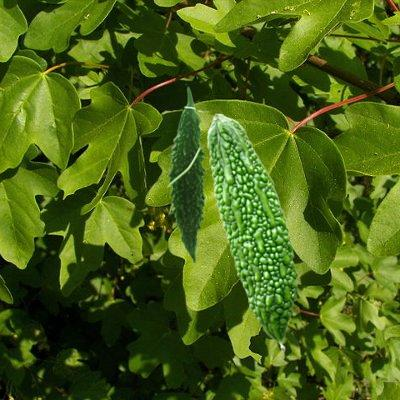ampalaya: (205, 111, 302, 354), (165, 86, 211, 264)
